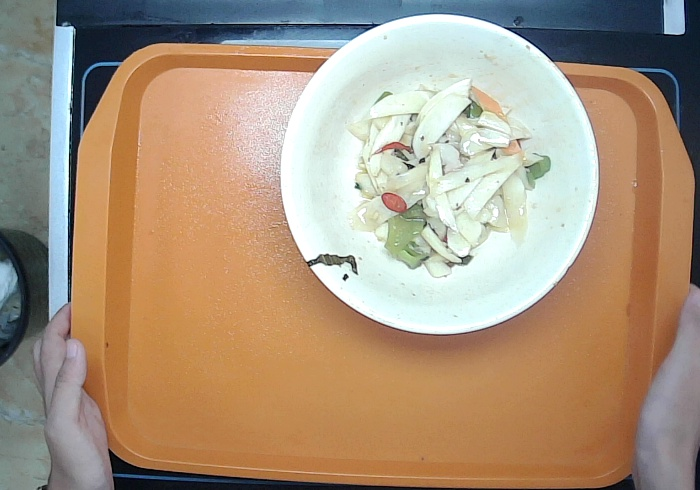ZNLD-Da_Tang_Wan: (278, 11, 601, 338)
